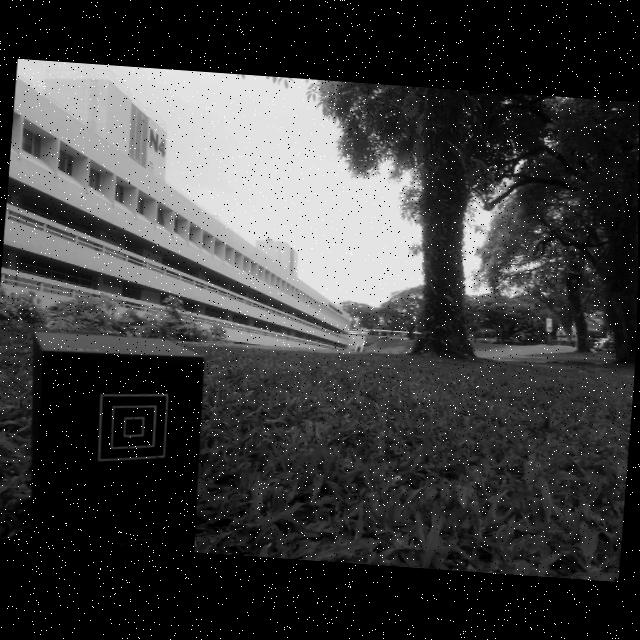BULLSEYE: (97, 393, 169, 462)
